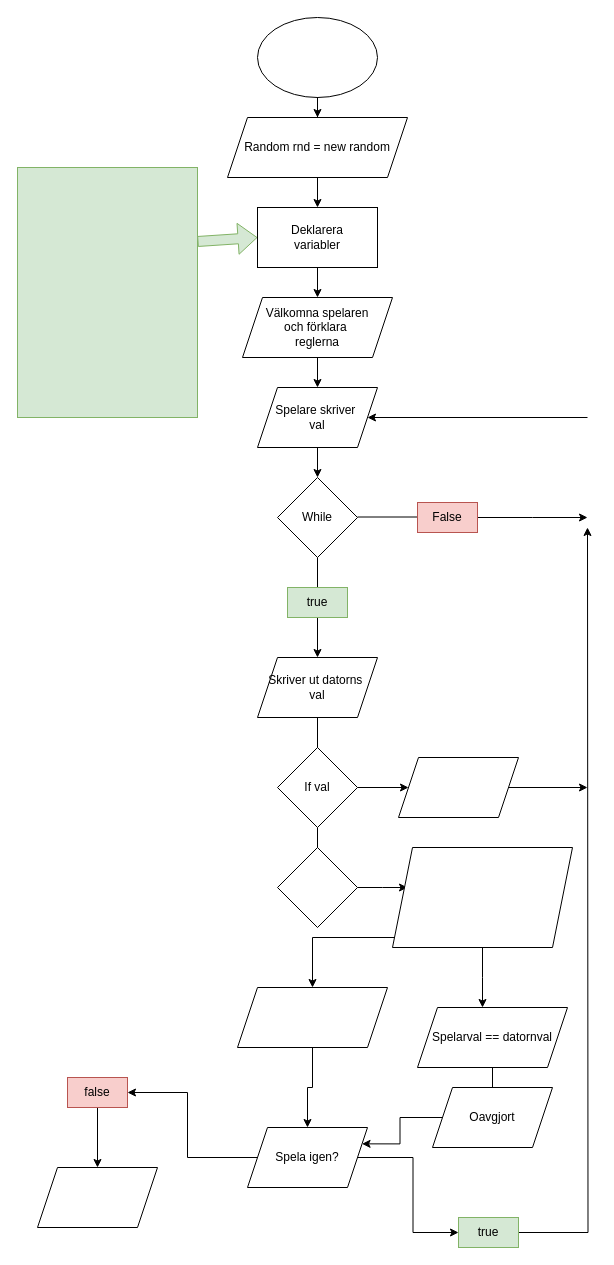
Image size: 614x1265. Some labels were removed from this diagram. Here are the shapes that lost their labels. From the top down, the centre of each, then its label:
point (317, 57): Start
point (107, 292): Variabellista string playername = "" string val = {"sten", "sax", "påse"}
point (458, 787): error
point (317, 887): else if
point (482, 897): spelarval2 = datorval1 spelarval3 = datorval2 spelarval1 = datorbval3
point (312, 1017): Datorn eller spelare vinner
point (97, 1197): Avsluta program
